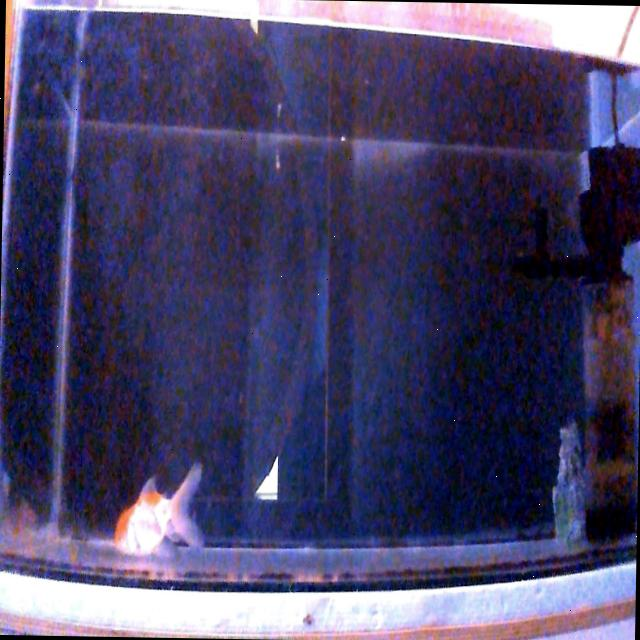fish: (112, 458, 205, 556)
